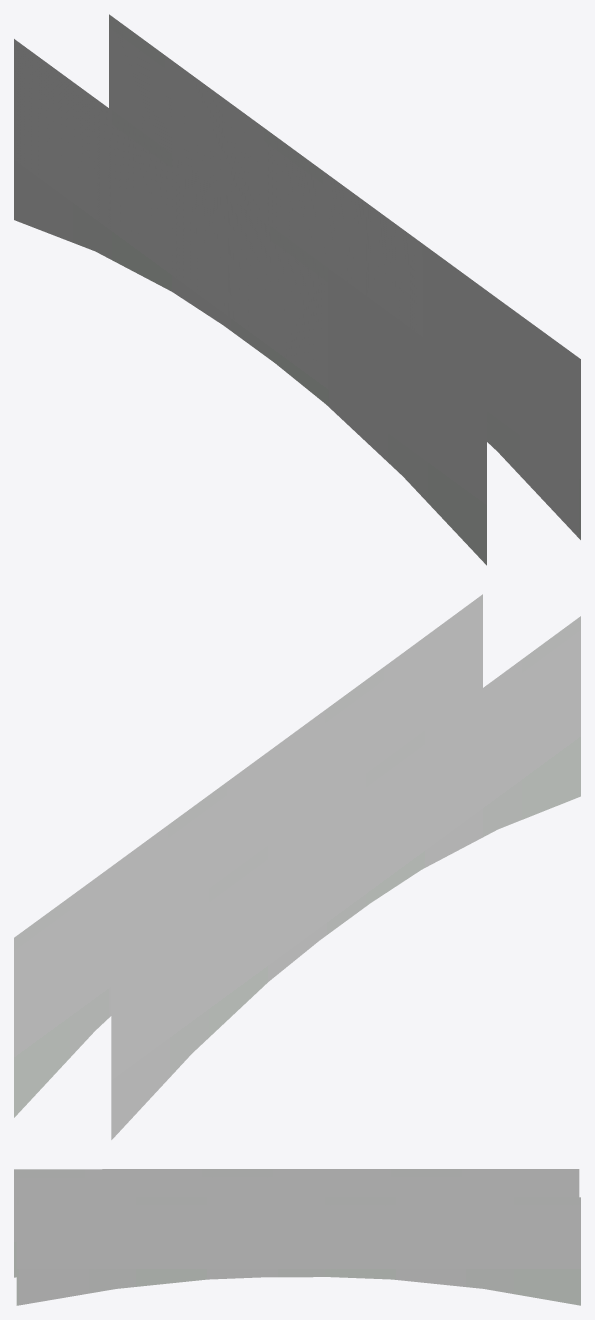
File: Q601_ALPHA.glb
The picture shows the model from 3 angles, top to bottom: view 1: azimuth 30°, elevation 25°; view 2: azimuth 150°, elevation 25°; view 3: azimuth 270°, elevation 25°; orthographic projection. The views are drawn at different scales.
Visible parts, largest first — view 1: Mesh; view 2: Mesh; view 3: Mesh.
Boxes of the visible parts, x1,y1,x2,y2 form: Mesh: (14,14,580,565); Mesh: (14,594,580,1139); Mesh: (14,1169,580,1305).
Bounding box in the file's own units: 4.41 × 7.9 × 37.41.
Materials: 1 (1 with a texture image).
